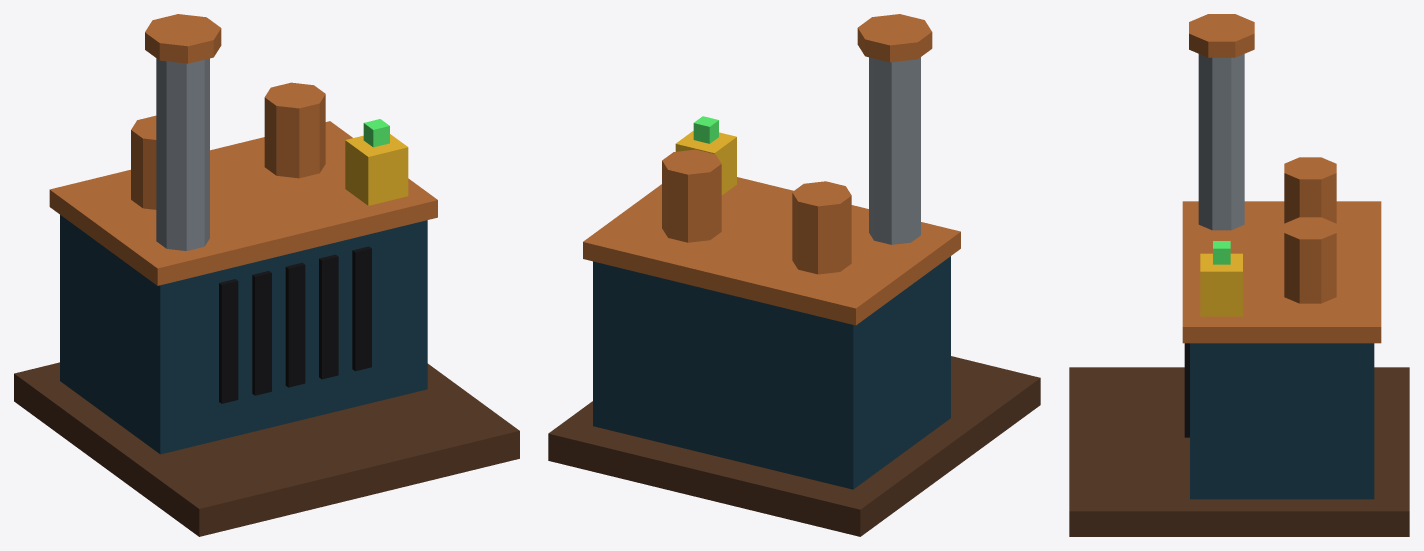
Rendered from power_generator.obj.
3 views of the same model, side by side, from view 1: azimuth 30°, elevation 25°; view 2: azimuth 150°, elevation 25°; view 3: azimuth 270°, elevation 25° (orthographic). The views are drawn at different scales.
Parts seen in each view (by area): view 1: Body, Coil, Lamp; view 2: Body, Coil, Lamp; view 3: Body, Coil, Lamp.
Boxes of the visible parts, x1,y1,x2,y2 form: Body: [14, 14, 519, 536]; Coil: [131, 82, 325, 209]; Lamp: [363, 119, 389, 147]; Body: [548, 14, 1040, 536]; Coil: [662, 149, 851, 274]; Lamp: [693, 116, 718, 143]; Body: [1069, 14, 1409, 536]; Coil: [1284, 157, 1336, 303]; Lamp: [1213, 241, 1230, 264].
Size of the model in its own units: 0.96 by 1.23 by 0.96.
